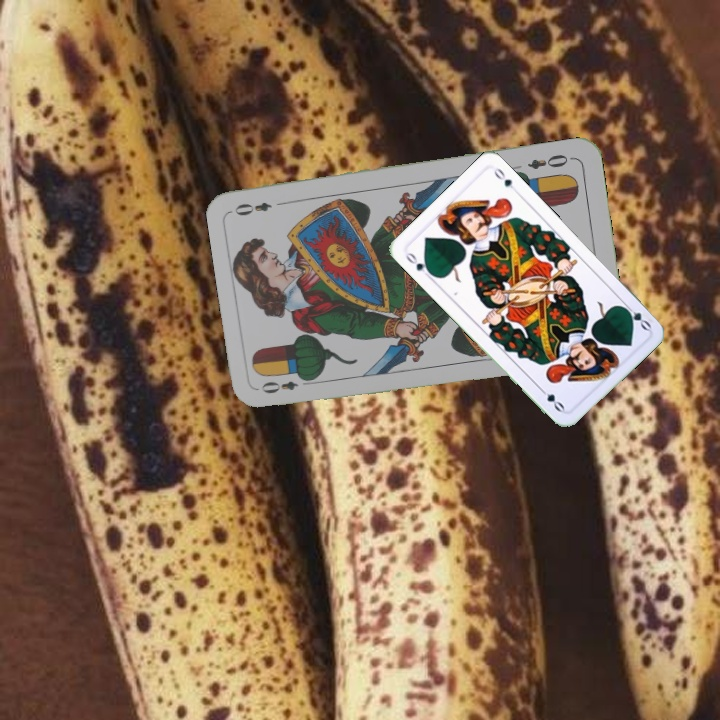EO: (257, 372, 315, 397), (524, 150, 576, 172)
GO: (618, 299, 654, 333), (401, 248, 436, 281)
